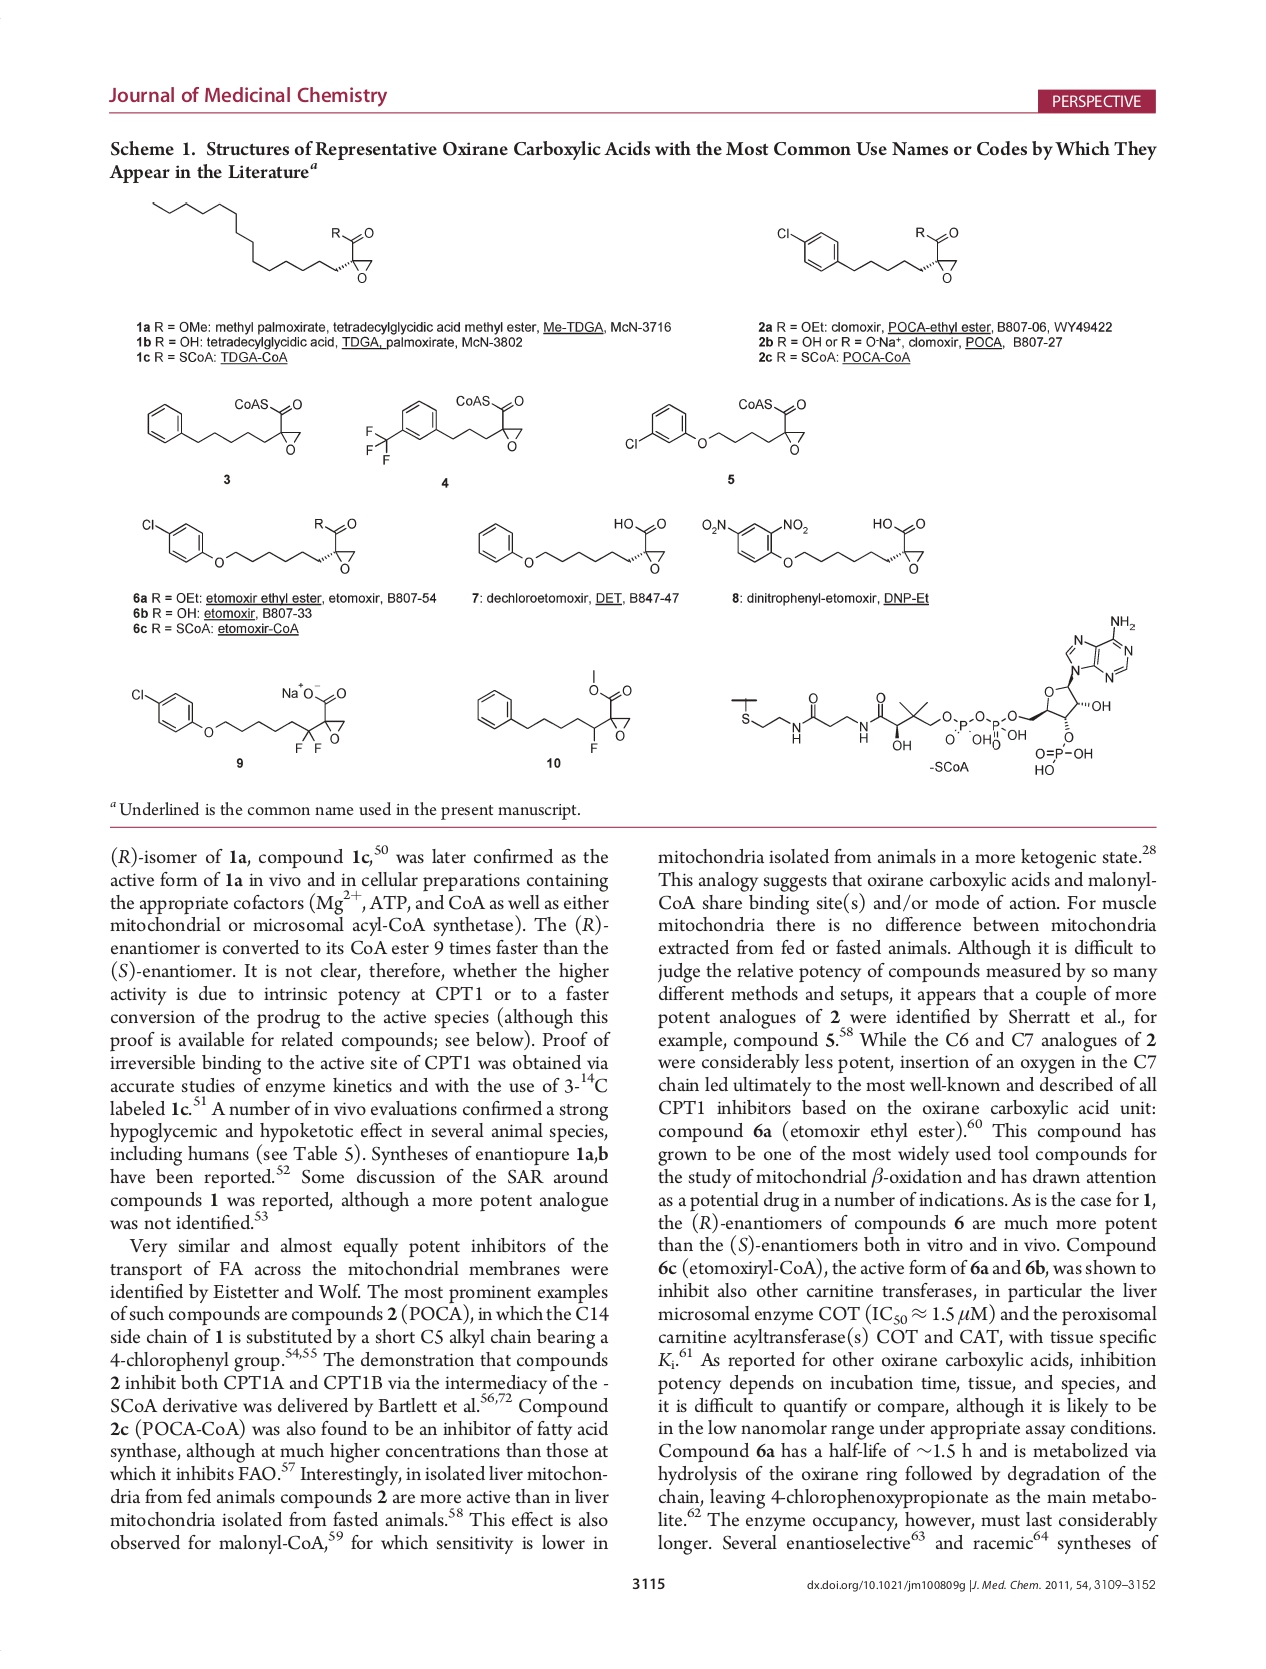exist_molecular: (727, 613, 1138, 777), (146, 194, 376, 289), (129, 680, 348, 755), (140, 511, 358, 582), (701, 515, 930, 577), (473, 668, 633, 755), (356, 390, 529, 467), (777, 218, 965, 285), (622, 394, 811, 457), (473, 515, 670, 575), (145, 395, 309, 456)
